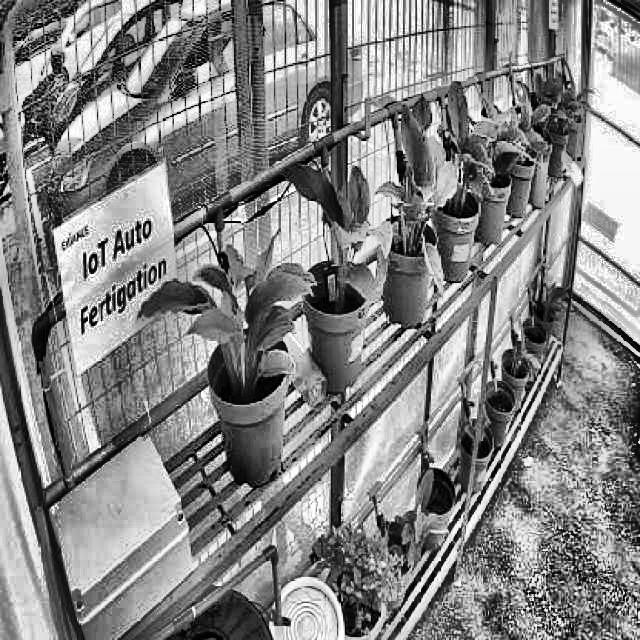plants: (136, 222, 318, 396), (356, 91, 458, 296), (283, 150, 392, 308), (422, 84, 496, 222)
